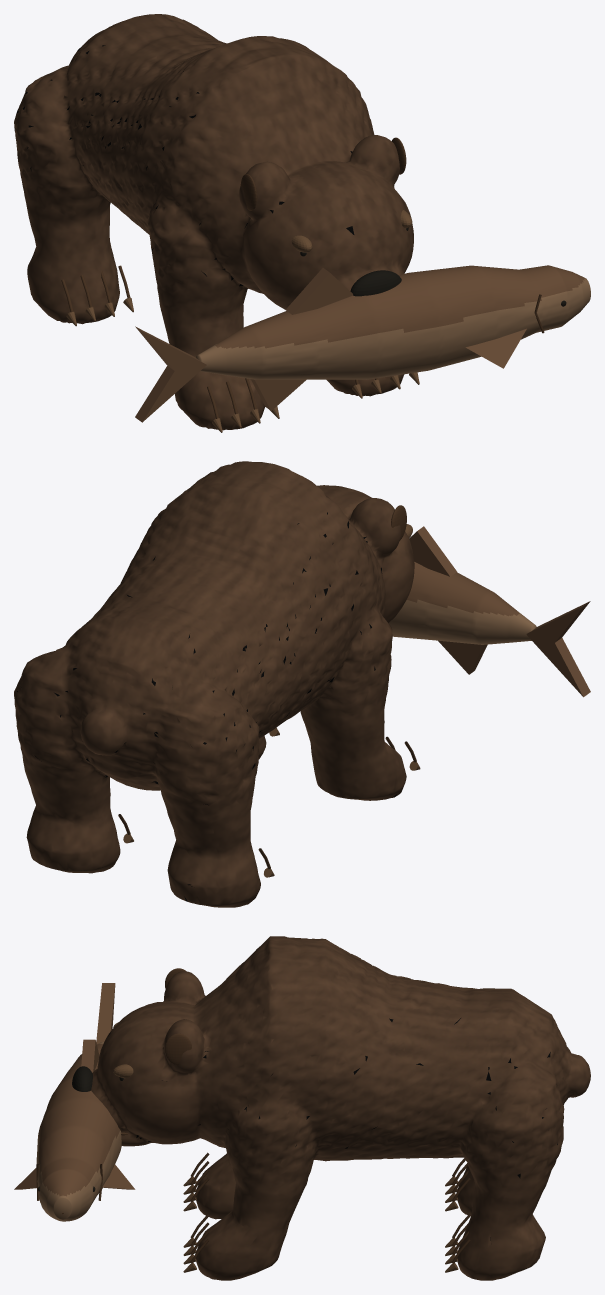
File: hokkaido_bear_high_low_baked.glb
3 views of the same model, one above another, from view 1: azimuth 30°, elevation 25°; view 2: azimuth 150°, elevation 25°; view 3: azimuth 270°, elevation 25° (orthographic). The views are drawn at different scales.
Parts seen in each view (by area): view 1: Kuma_Baked_UV_Lowpoly, Salmon_Tapered_Body, Salmon_Forked_Tail, Salmon_DorsalFin, Salmon_PectoralFin-1, Salmon_AnalFin, Bear_Black_Carved_Nose; view 2: Kuma_Baked_UV_Lowpoly, Salmon_Tapered_Body, Salmon_Forked_Tail, Salmon_DorsalFin, Salmon_AnalFin; view 3: Kuma_Baked_UV_Lowpoly, Salmon_Tapered_Body, Salmon_Forked_Tail, EarWell_-1, Salmon_DorsalFin, Bear_Black_Carved_Nose.
Boxes of the visible parts, x1,y1,x2,y2 form: Kuma_Baked_UV_Lowpoly: (14, 14, 413, 430); Salmon_Tapered_Body: (196, 265, 590, 379); Salmon_Forked_Tail: (135, 326, 206, 422); Salmon_DorsalFin: (286, 268, 352, 314); Salmon_PectoralFin-1: (465, 328, 526, 368); Salmon_AnalFin: (251, 379, 306, 410); Bear_Black_Carved_Nose: (350, 270, 401, 296); Kuma_Baked_UV_Lowpoly: (14, 461, 414, 907); Salmon_Tapered_Body: (388, 562, 536, 644); Salmon_Forked_Tail: (526, 601, 590, 697); Salmon_DorsalFin: (409, 526, 456, 576); Salmon_AnalFin: (438, 640, 487, 674); Kuma_Baked_UV_Lowpoly: (91, 936, 590, 1280); Salmon_Tapered_Body: (36, 1042, 121, 1221); Salmon_Forked_Tail: (96, 983, 115, 1044); EarWell_-1: (165, 1033, 191, 1065); Salmon_DorsalFin: (81, 1039, 99, 1072); Bear_Black_Carved_Nose: (72, 1066, 92, 1091).
Bounding box in the file's own units: 2.62 × 1.93 × 3.46.
7 materials, 1 textured.
